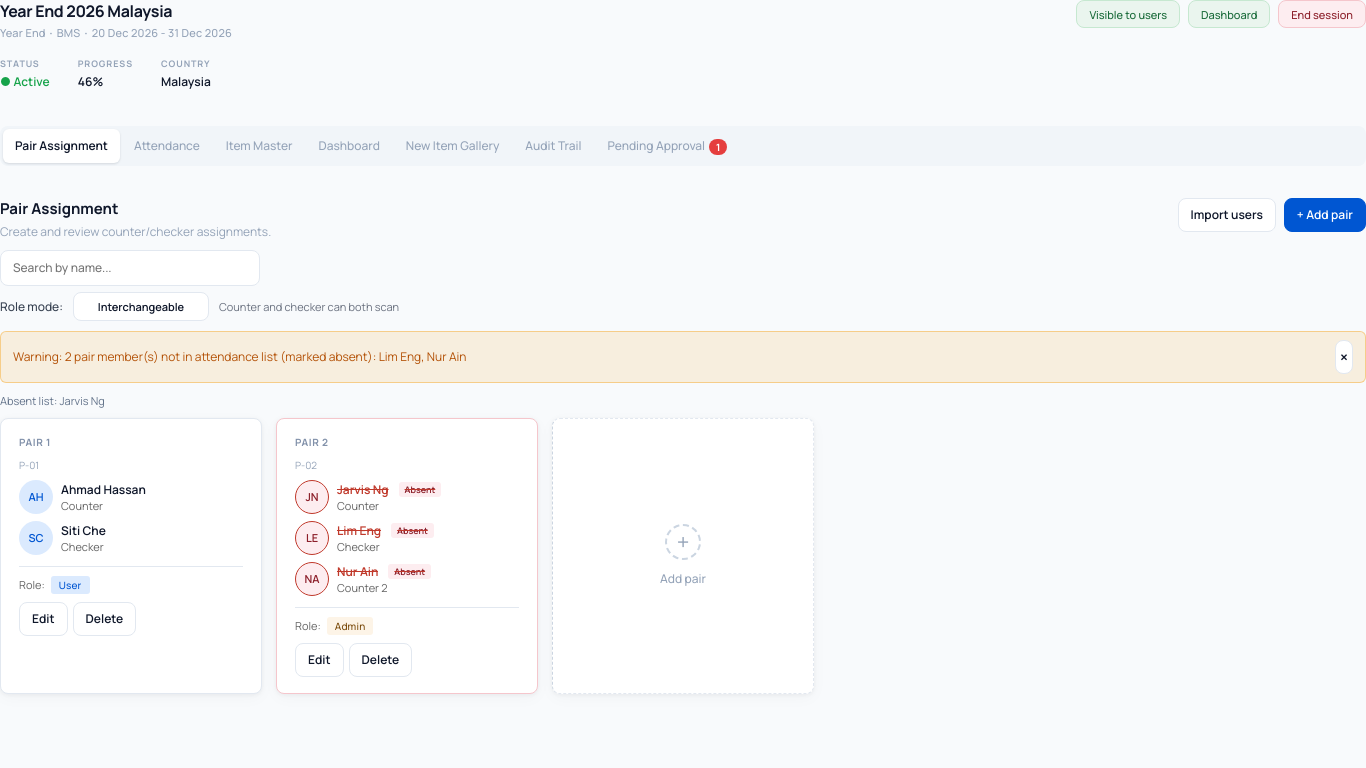
Scenario: AdminSessionPage › edits a pair from pair assignment table
Expected: the text "Year End 2026 Malaysia" is shown, [0, 0, 172, 22]
Expected: the text "P-01" is shown, [19, 458, 39, 472]
Click the button "Edit" below "Siti Che" at (43, 619), box [19, 602, 68, 636]
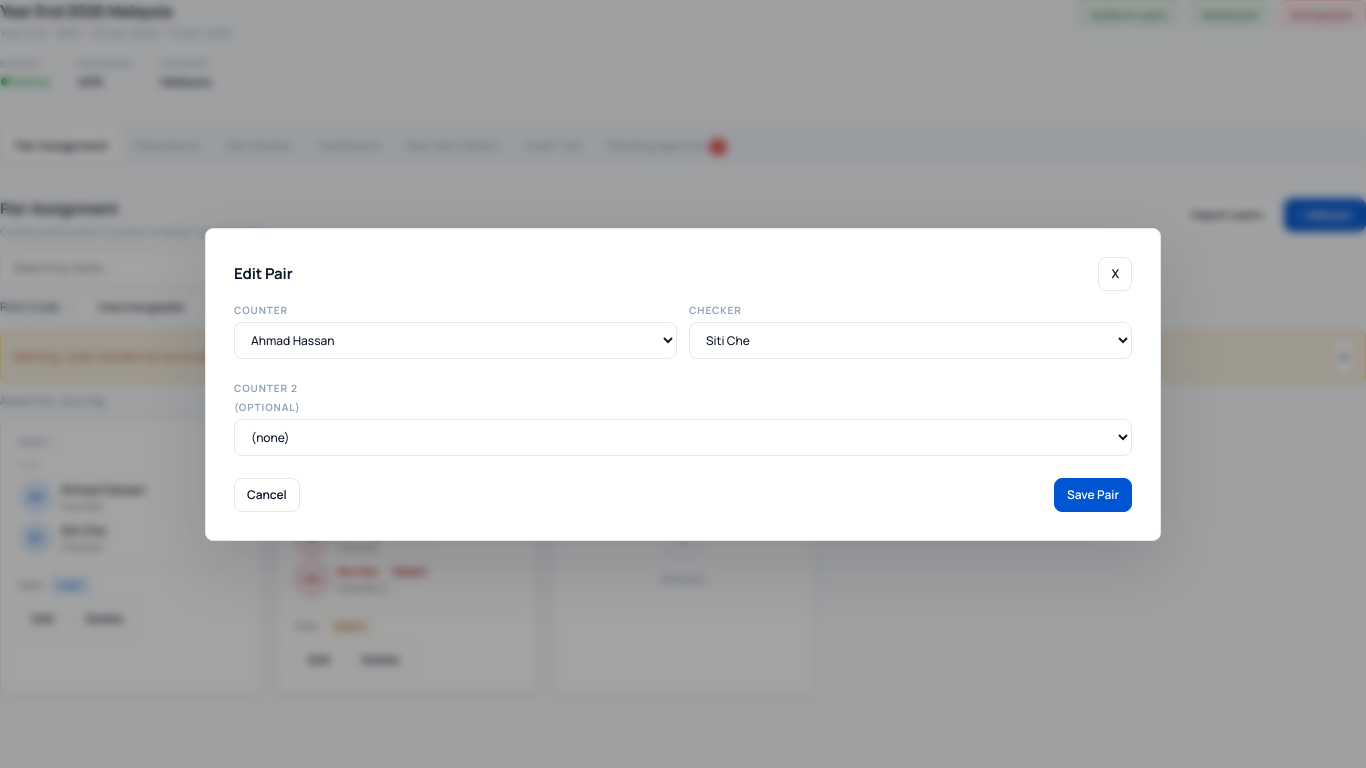
Select "Super Admin" in the dropdown labelled "Counter" at (455, 340), box [234, 322, 677, 358]
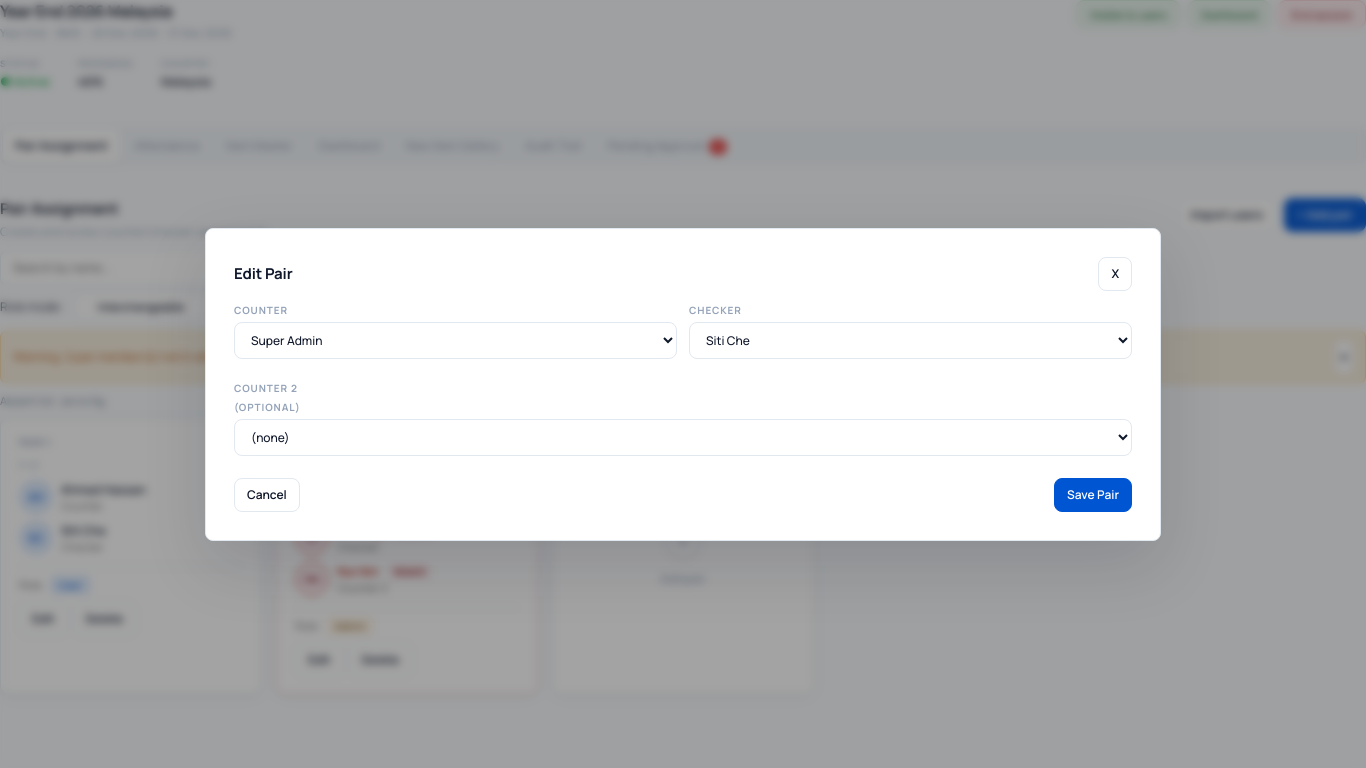
Click the button "Save Pair" at (1093, 494), box [1054, 478, 1132, 512]
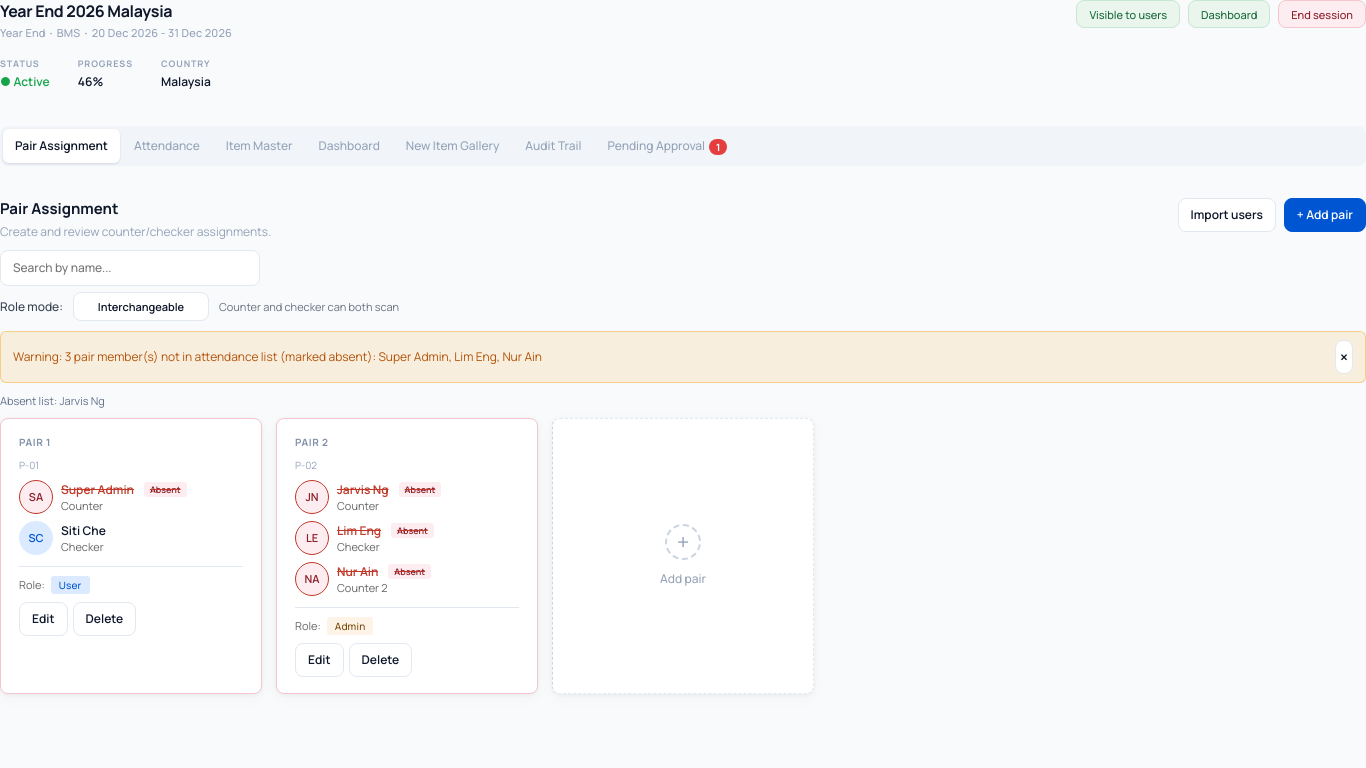
Expected: the text "Super Admin" is shown, [61, 481, 134, 498]
